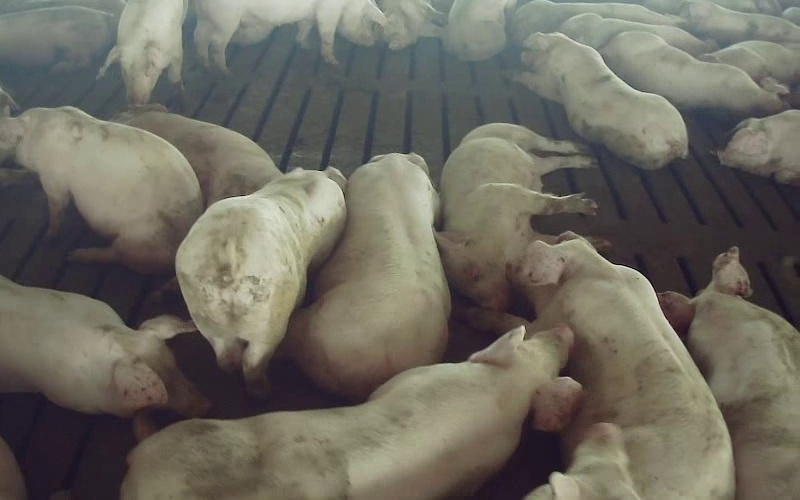pig: (121, 326, 580, 499), (282, 153, 450, 398), (176, 168, 345, 396), (658, 247, 799, 499), (437, 123, 595, 310), (514, 32, 686, 169), (117, 105, 281, 206), (599, 31, 782, 114), (194, 0, 385, 72), (0, 6, 114, 70)
